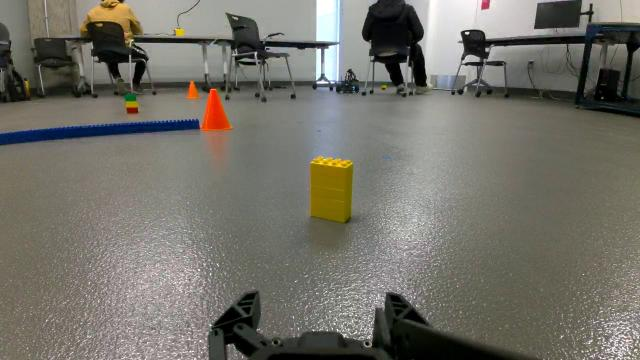lego: (296, 150, 368, 229), (124, 93, 143, 118)
